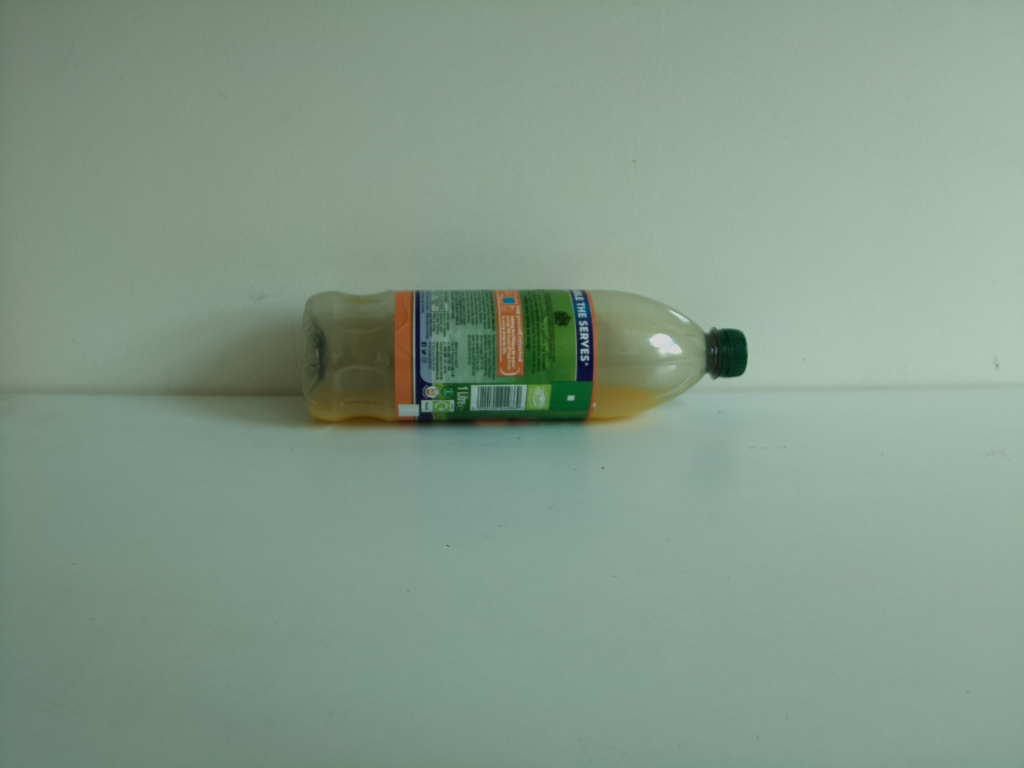juice: (296, 284, 749, 435)
